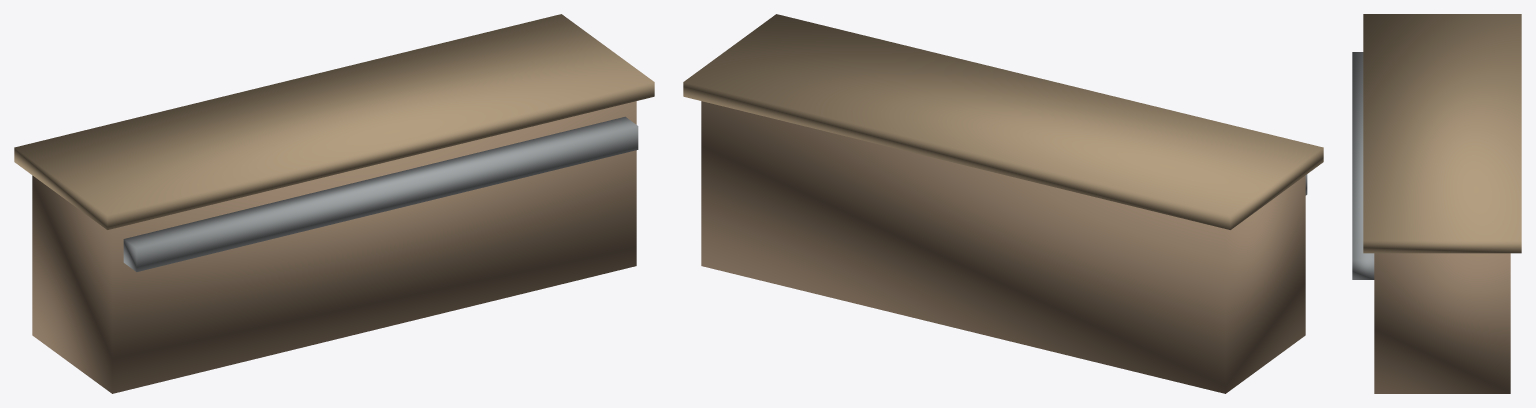
File: bar_counter__squat.glb
3 views of the same model, side by side, from view 1: azimuth 30°, elevation 25°; view 2: azimuth 150°, elevation 25°; view 3: azimuth 270°, elevation 25° (orthographic). The views are drawn at different scales.
Parts seen in each view (by area): view 1: world; view 2: world; view 3: world.
Boxes of the visible parts, left/top/right/bottom form: world: left=14, top=14, right=654, bottom=393; world: left=683, top=14, right=1323, bottom=393; world: left=1352, top=14, right=1521, bottom=393.
Size of the model in its own units: 2.64 by 0.8568 by 0.8316.
